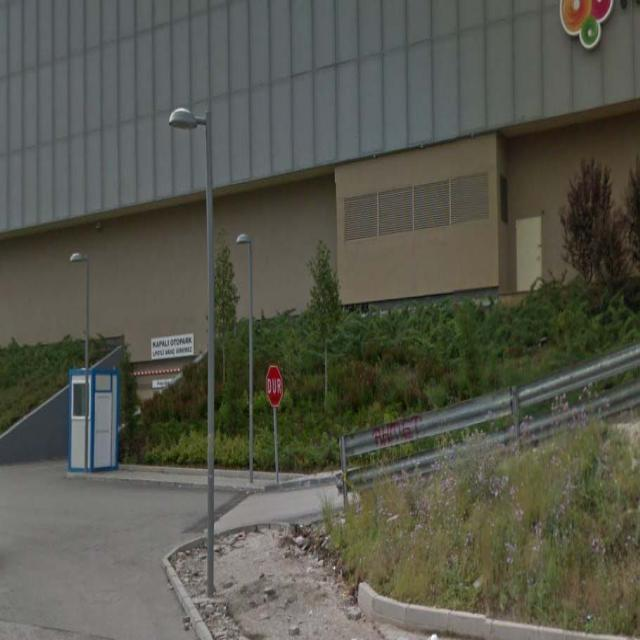dur: (265, 366, 283, 409)
